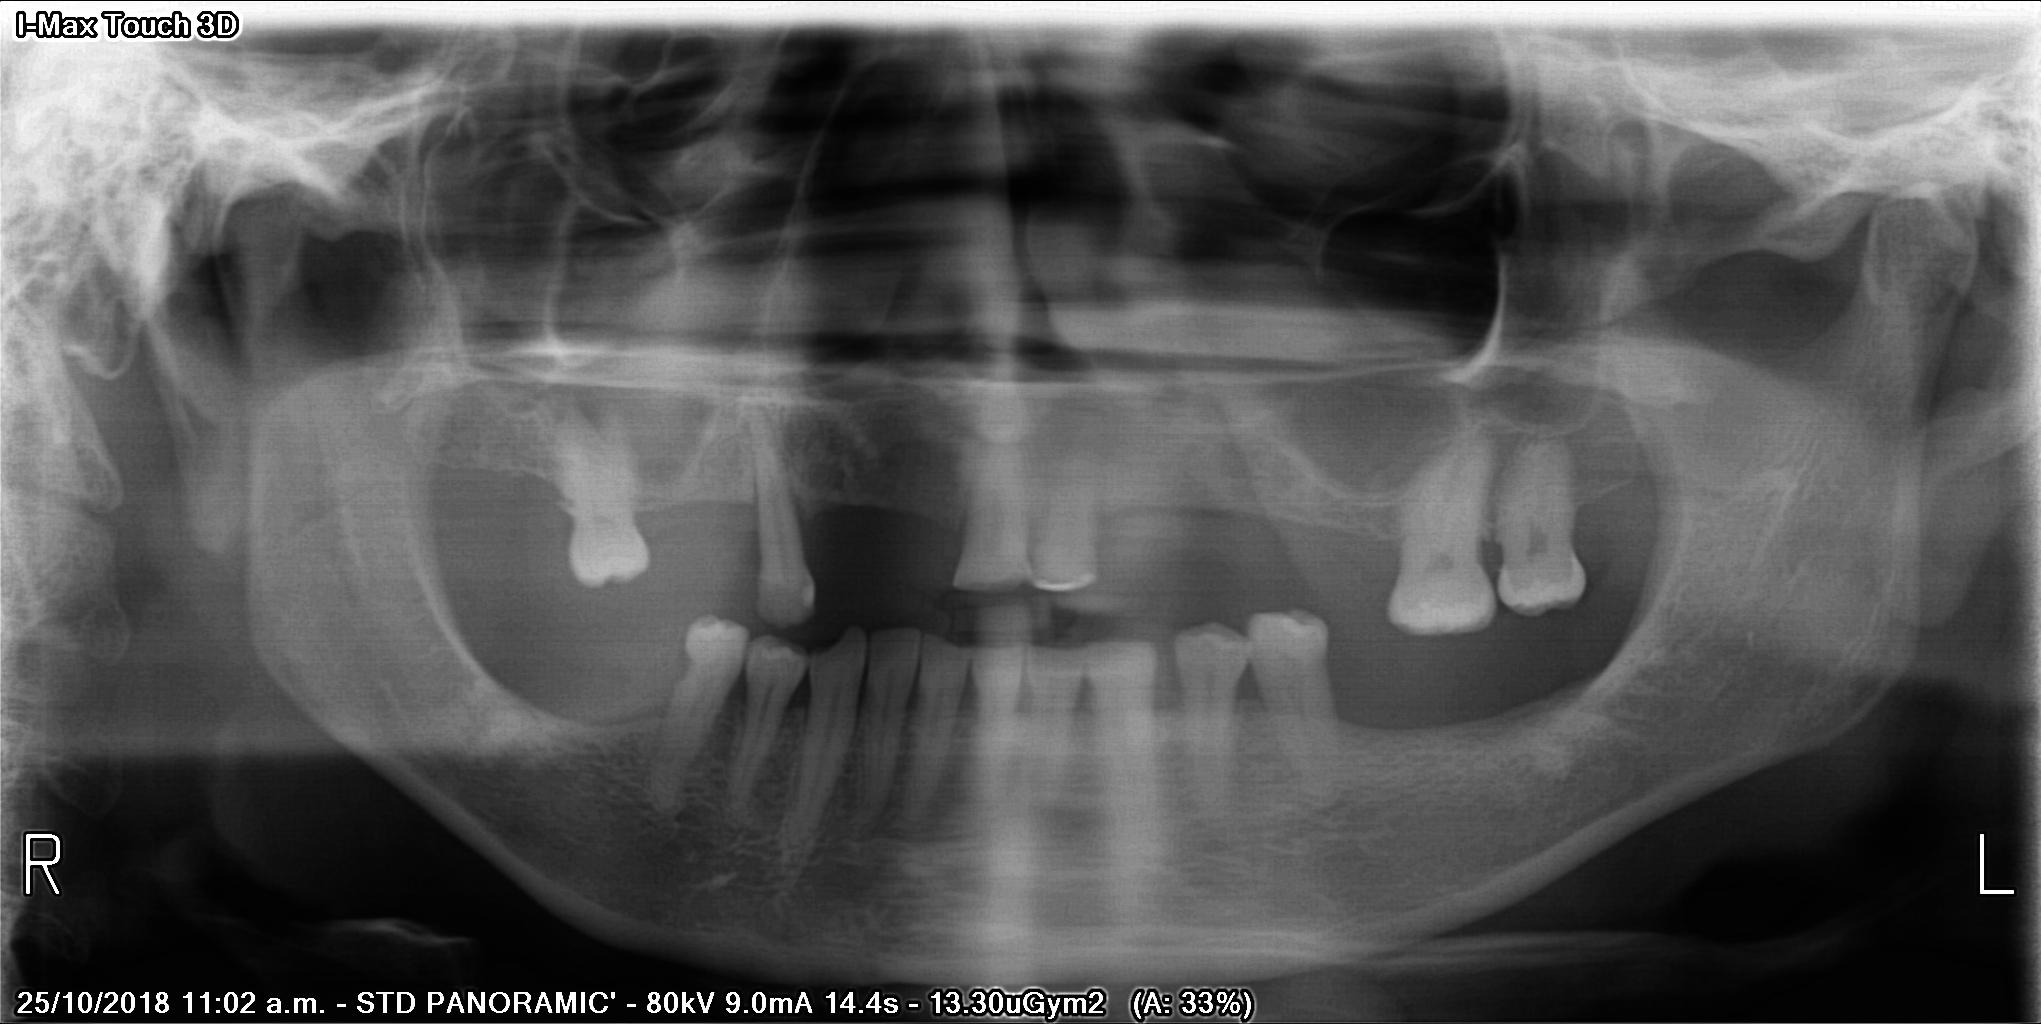Çürük Bölgesi: (675, 647, 700, 695)
